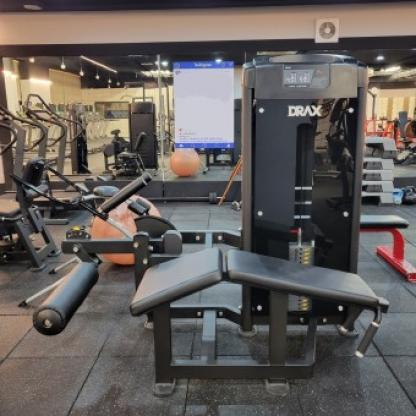reg curl machine: (18, 46, 395, 401)
